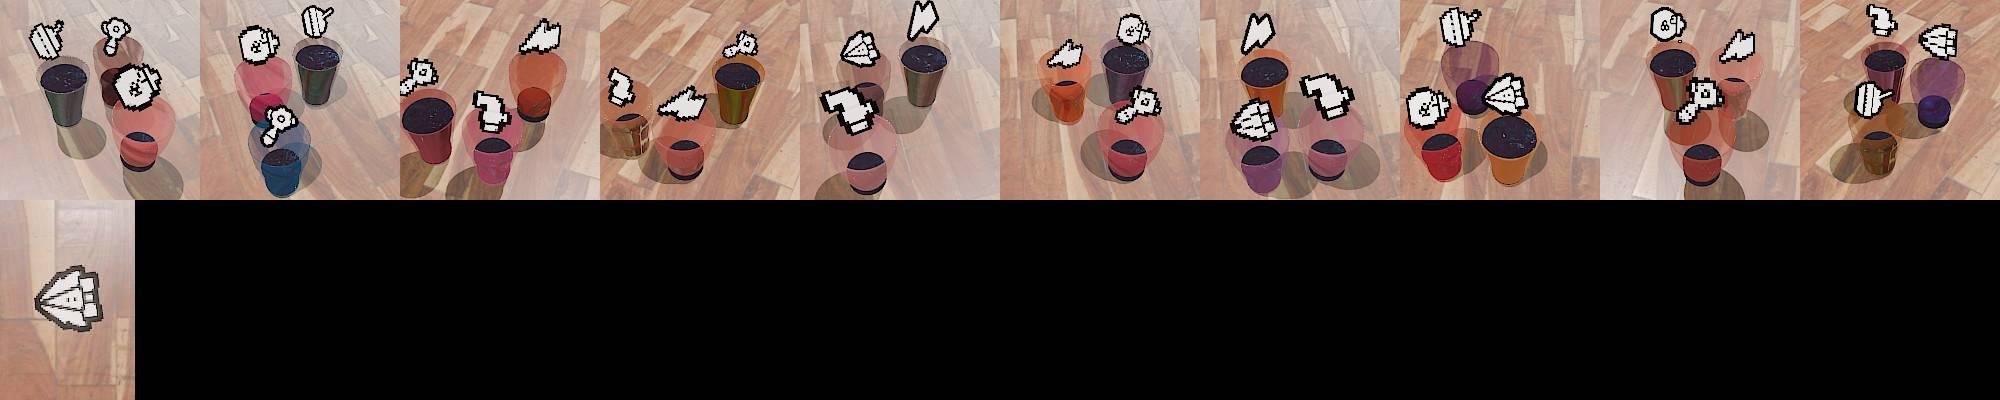icon: (34, 264, 105, 332), (820, 84, 879, 135), (1298, 71, 1356, 121), (111, 62, 162, 111), (1676, 75, 1724, 124), (1483, 71, 1531, 116), (1230, 97, 1278, 140), (1404, 87, 1453, 130), (656, 84, 709, 122), (1114, 84, 1162, 125), (1439, 5, 1482, 50), (471, 88, 513, 134), (237, 24, 281, 66), (260, 102, 300, 148), (517, 18, 562, 55), (399, 56, 440, 96), (28, 19, 66, 61), (839, 28, 880, 66), (1240, 13, 1276, 56), (1918, 23, 1959, 60), (1717, 28, 1758, 64), (1853, 80, 1889, 118), (1649, 6, 1686, 42), (1045, 37, 1084, 70), (907, 0, 939, 41), (606, 66, 636, 108), (99, 17, 130, 59), (1116, 13, 1152, 47), (300, 4, 334, 39), (722, 28, 760, 59), (1867, 3, 1898, 38)
